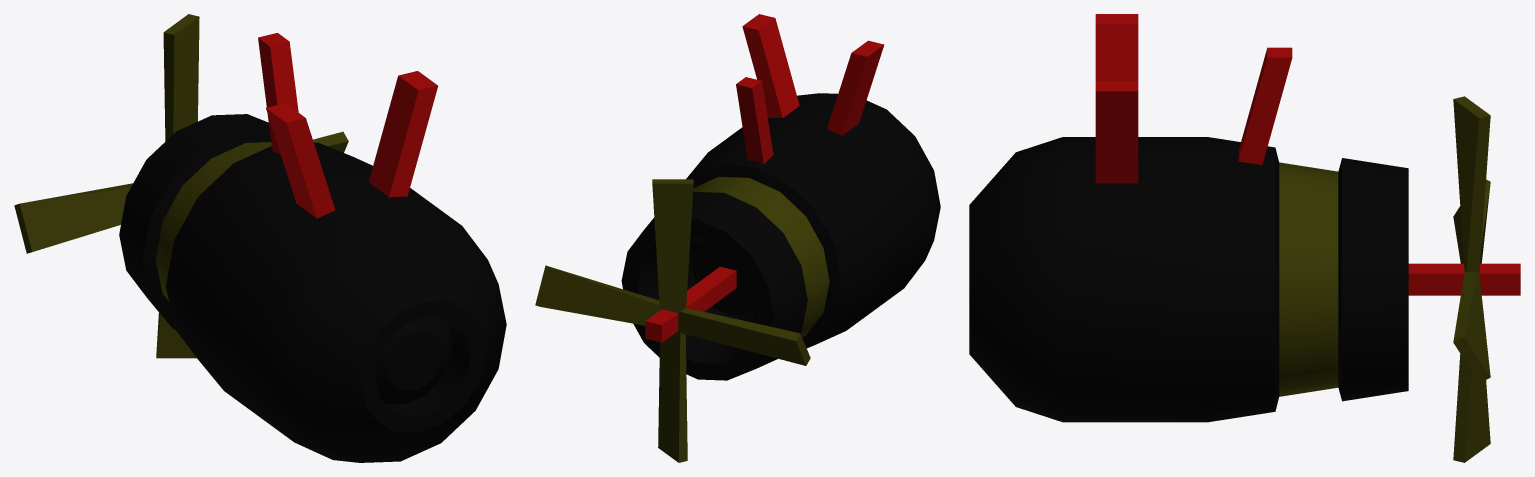
Rendered from engine_pod.glb.
The picture shows the model from 3 angles, left to right: view 1: azimuth 30°, elevation 25°; view 2: azimuth 150°, elevation 25°; view 3: azimuth 270°, elevation 25°; orthographic projection. The views are drawn at different scales.
Visible parts, largest first — view 1: Circle, Cube.003, Cube.002, Circle.001; view 2: Circle, Cube.002, Cube.003, Circle.001, Cube; view 3: Circle, Circle.001, Cube.003, Cube.002, Cube.
Boxes of the visible parts, box(x1,y1,x2,y2) form: Circle: box(119, 114, 506, 462); Cube.003: box(258, 33, 437, 218); Cube.002: box(14, 14, 348, 358); Circle.001: box(156, 142, 271, 301); Circle: box(621, 93, 940, 380); Cube.002: box(535, 179, 810, 462); Cube.003: box(736, 14, 884, 164); Circle.001: box(693, 176, 829, 336); Cube: box(645, 266, 736, 342); Circle: box(969, 137, 1408, 422); Circle.001: box(1279, 162, 1338, 396); Cube.003: box(1095, 14, 1292, 183); Cube.002: box(1453, 96, 1490, 462); Cube: box(1408, 263, 1520, 295).
Size of the model in its own units: 4.01 by 4.64 by 5.8.
